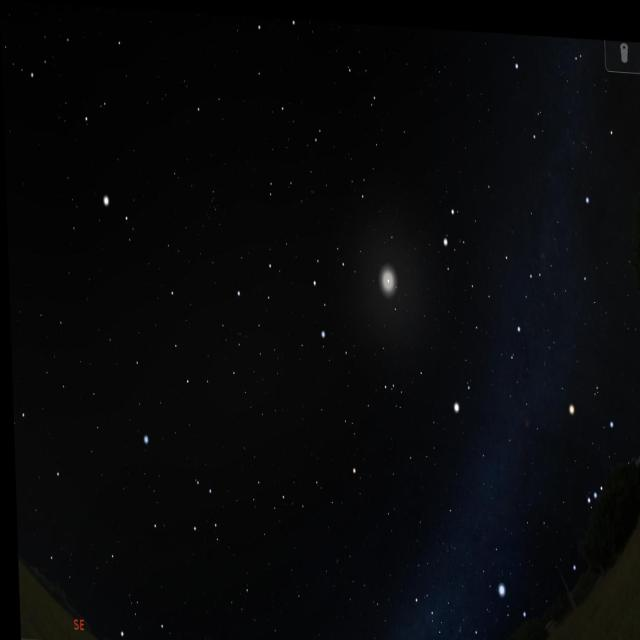bootes: (56, 3, 132, 232)
canis_major: (459, 563, 535, 640)
canis_minor: (446, 378, 482, 428)
gemini: (433, 191, 545, 345)
leo: (214, 212, 350, 356)
moon: (369, 243, 404, 309)
orion: (558, 397, 635, 579)
